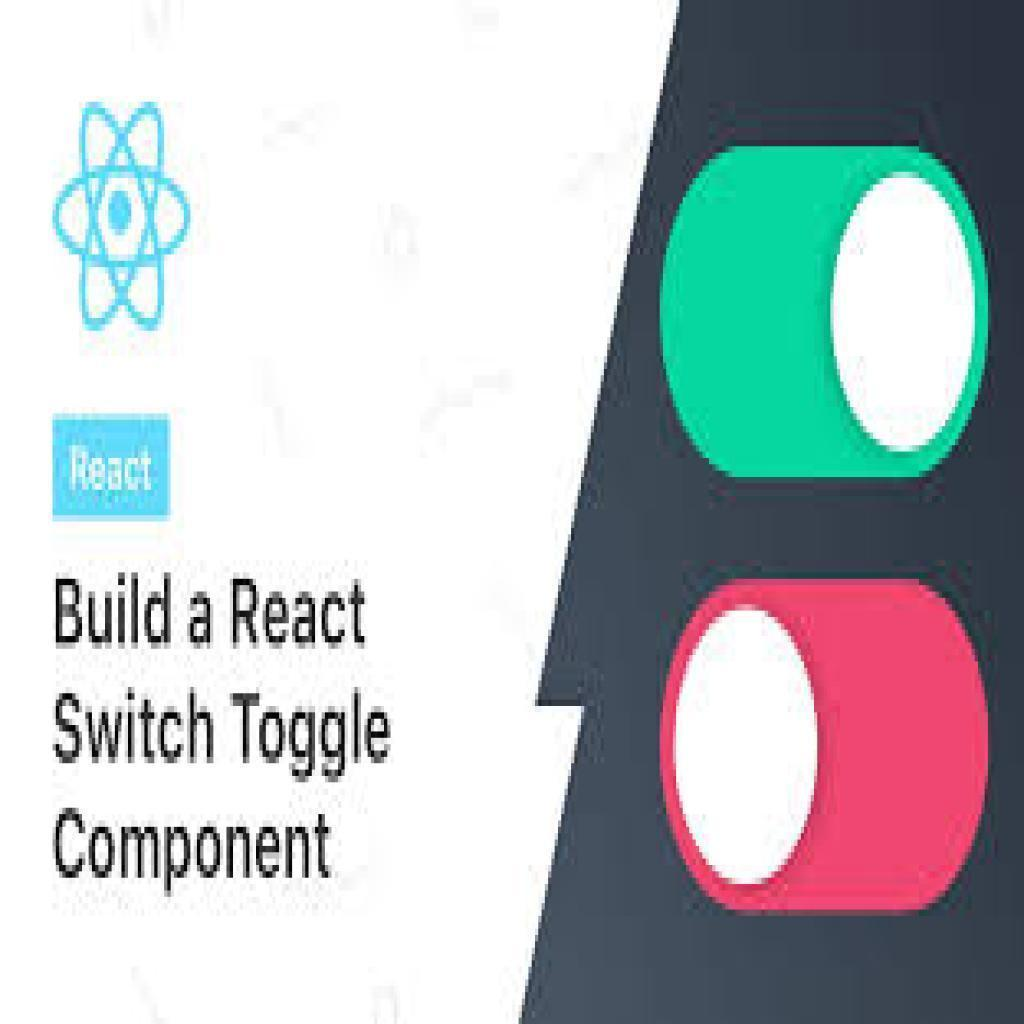switch: (657, 577, 993, 925), (659, 136, 991, 483)
